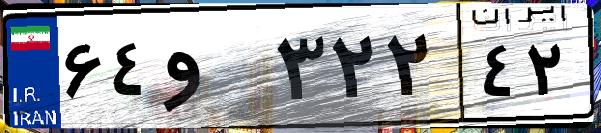2: (385, 28, 445, 110), (330, 28, 385, 110), (525, 38, 570, 115)
3: (270, 28, 330, 110)
4: (475, 38, 525, 113), (110, 28, 158, 98)
6: (57, 26, 110, 100)
و: (158, 20, 270, 120)
